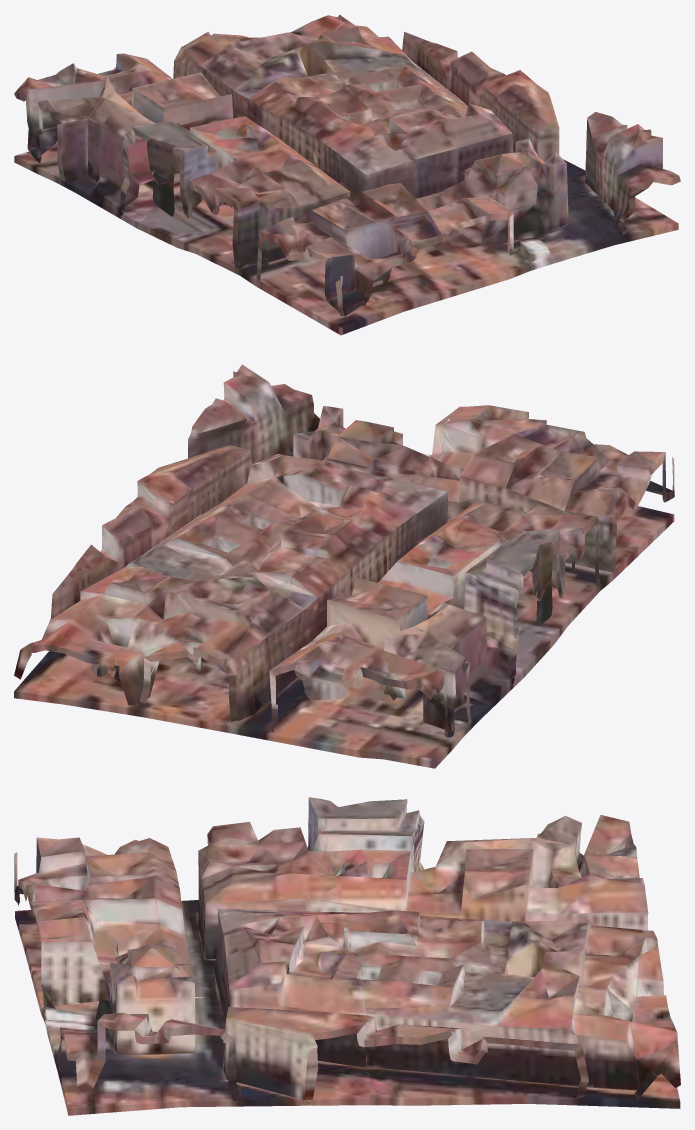
3 views of the same model, one above another, from view 1: azimuth 30°, elevation 25°; view 2: azimuth 150°, elevation 25°; view 3: azimuth 270°, elevation 25° (orthographic). The views are drawn at different scales.
Parts seen in each view (by area): view 1: Mesh_0; view 2: Mesh_0; view 3: Mesh_0.
Part boxes in pixels (x1,y1,x2,y2): Mesh_0: [14, 14, 680, 335]; Mesh_0: [14, 364, 674, 768]; Mesh_0: [14, 797, 680, 1115].
Bounding box in the file's own units: 134 × 35.26 × 165.
1 material, 1 textured.
